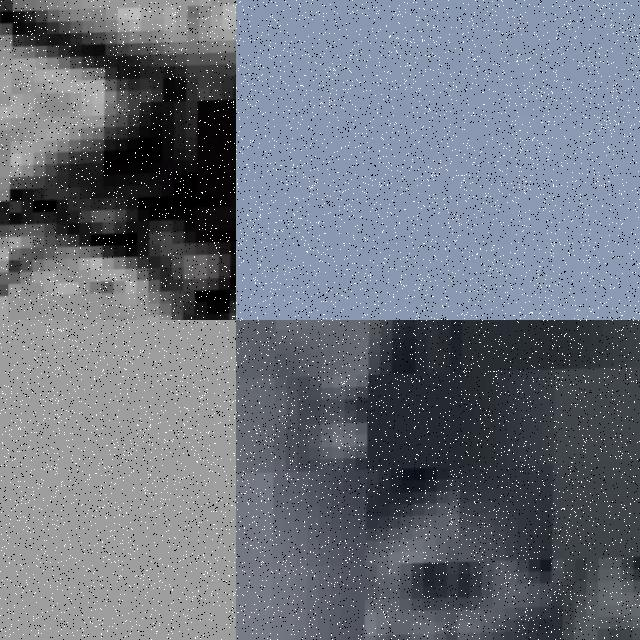drone: (236, 320, 640, 640), (0, 0, 236, 320)
